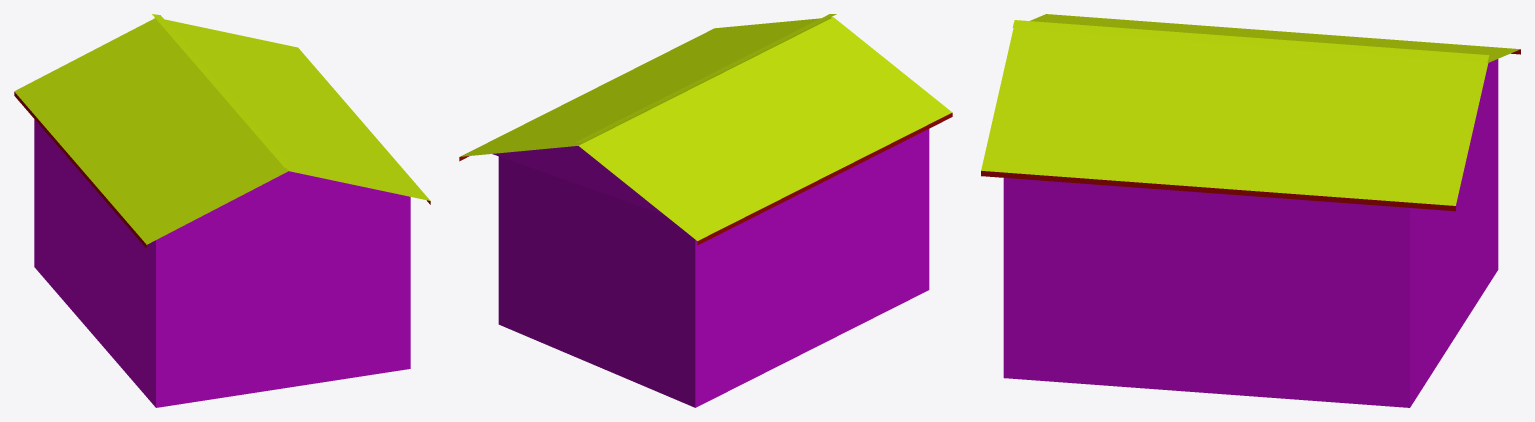
File: bgj_299.glb
3 renders of one model, left to right at view 1: azimuth 30°, elevation 25°; view 2: azimuth 150°, elevation 25°; view 3: azimuth 270°, elevation 25°, orthographic. The views are drawn at different scales.
Visible parts, largest first — view 1: bgj_299; view 2: bgj_299; view 3: bgj_299.
Boxes of the visible parts, x1,y1,x2,y2 form: bgj_299: [14, 14, 430, 407]; bgj_299: [459, 14, 952, 407]; bgj_299: [981, 14, 1520, 407].
Size of the model in its own units: 9.25 by 6.38 by 10.99.
